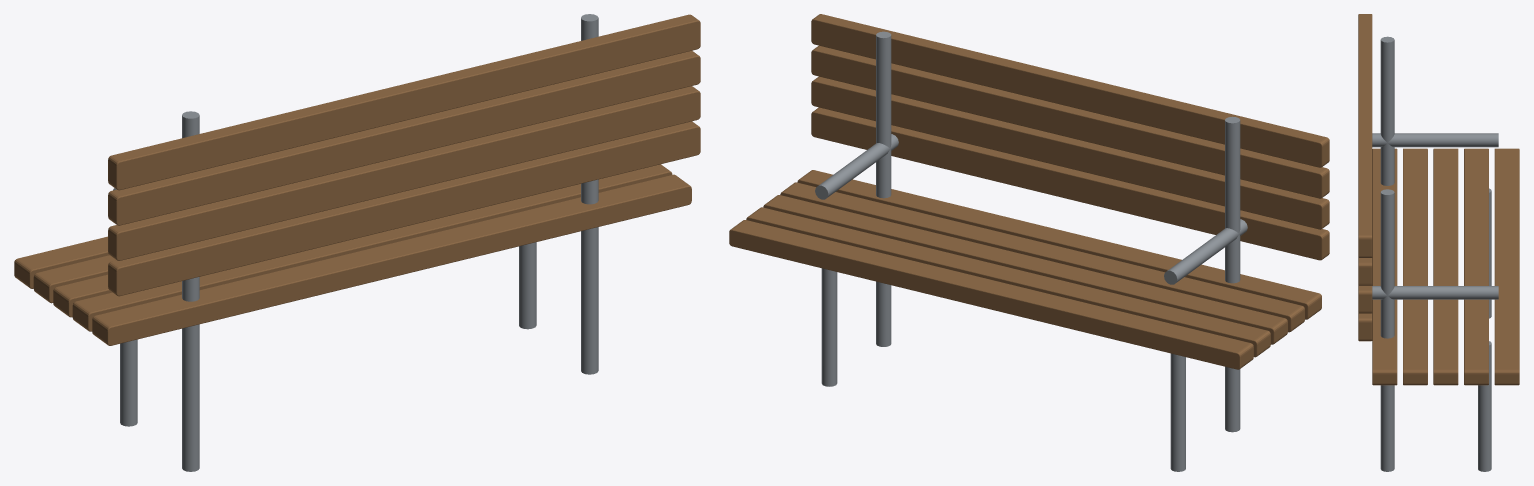
The model's file is park-bench.glb.
3 views of the same model, side by side, from view 1: azimuth 30°, elevation 25°; view 2: azimuth 150°, elevation 25°; view 3: azimuth 270°, elevation 25° (orthographic). The views are drawn at different scales.
Visible parts, largest first — view 1: back_slat (×4), wood_slat (×5), leg (×4); view 2: back_slat (×4), wood_slat (×5), leg (×4), arm (×2); view 3: wood_slat (×5), leg (×4), back_slat (×4), arm (×2).
Part boxes in pixels (x1,y1,x2,y2): back_slat (×4): [108, 14, 700, 296]; wood_slat (×5): [14, 164, 691, 345]; leg (×4): [120, 14, 598, 471]; back_slat (×4): [811, 14, 1329, 260]; wood_slat (×5): [729, 170, 1321, 369]; leg (×4): [821, 31, 1240, 471]; arm (×2): [815, 134, 1247, 284]; wood_slat (×5): [1372, 148, 1519, 385]; leg (×4): [1380, 36, 1491, 471]; back_slat (×4): [1358, 14, 1372, 341]; arm (×2): [1372, 133, 1498, 299].
Size of the model in its own units: 1.9 by 1.1 by 0.58.
